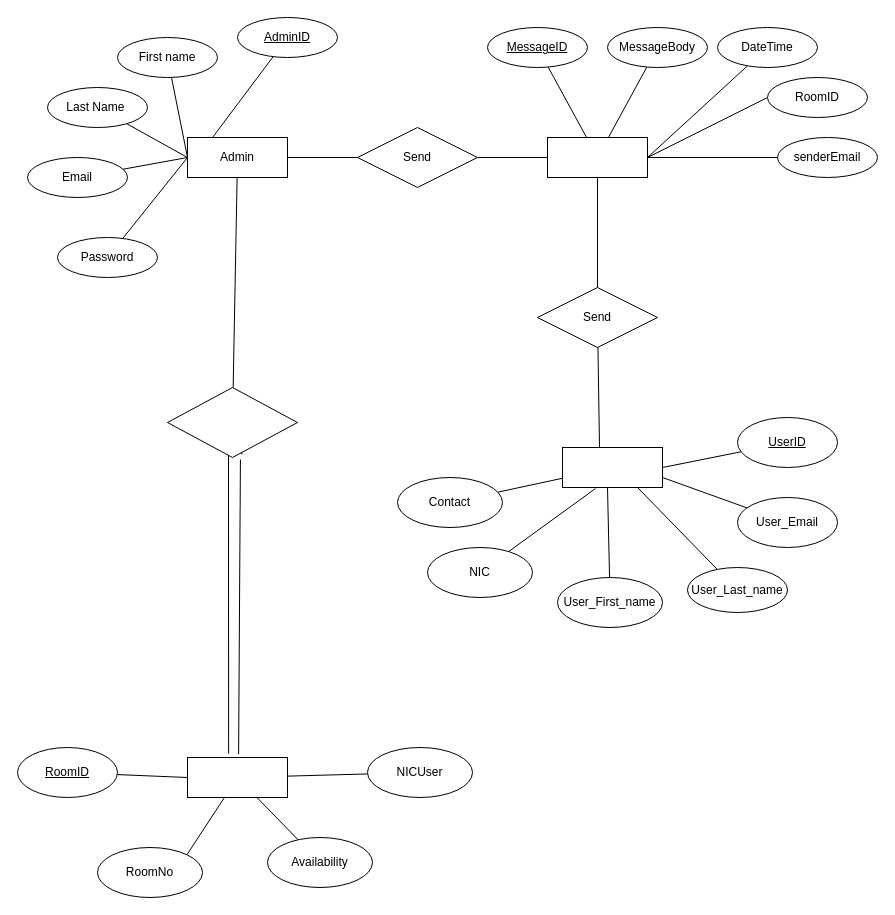
The diagram is 895 pixels wide and 915 high, and some of its shapes have lost their labels. The shapes that lost their labels are listed below. From the top down, each one's box as (x1, y1, x2, y2) in pixels, then its label:
(546, 136, 648, 178): Message
(166, 386, 298, 458): Manage
(562, 446, 662, 488): User
(186, 756, 288, 798): Room
